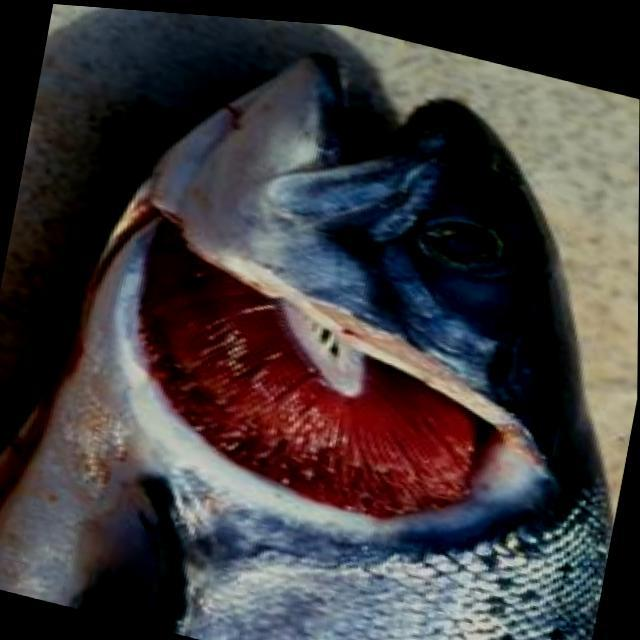Gill Disease: (54, 88, 616, 569)
